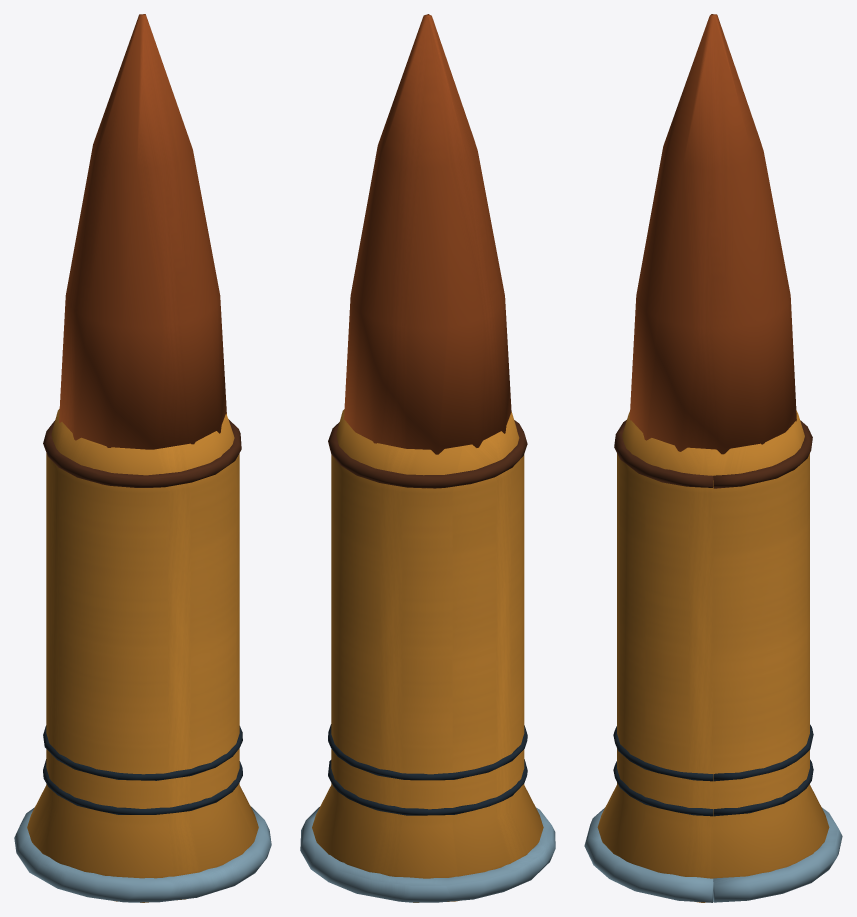
File: SM_bullet_round_LOD1.fbx
3 views of the same model, side by side, from view 1: azimuth 30°, elevation 25°; view 2: azimuth 150°, elevation 25°; view 3: azimuth 270°, elevation 25° (orthographic).
Visible parts, largest first — view 1: SM_bullet_round_LOD1; view 2: SM_bullet_round_LOD1; view 3: SM_bullet_round_LOD1.
Part boxes in pixels (x1,y1,x2,y2): SM_bullet_round_LOD1: (14, 14, 271, 902); SM_bullet_round_LOD1: (300, 14, 555, 902); SM_bullet_round_LOD1: (584, 14, 842, 902).
Size of the model in its own units: 0.0668 by 0.0669 by 0.2464.
